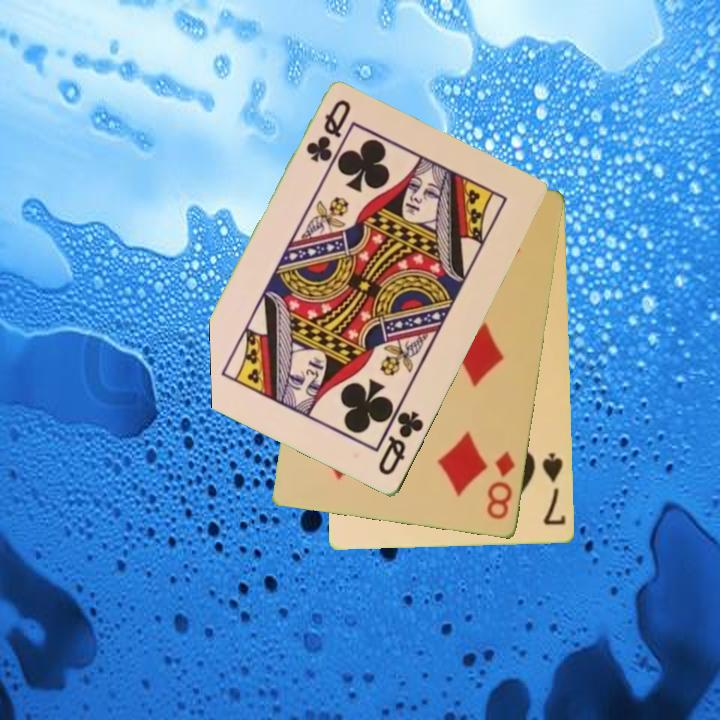7s: (539, 449, 569, 529)
8d: (483, 448, 518, 523)
Qc: (374, 408, 427, 479), (302, 97, 354, 166)
